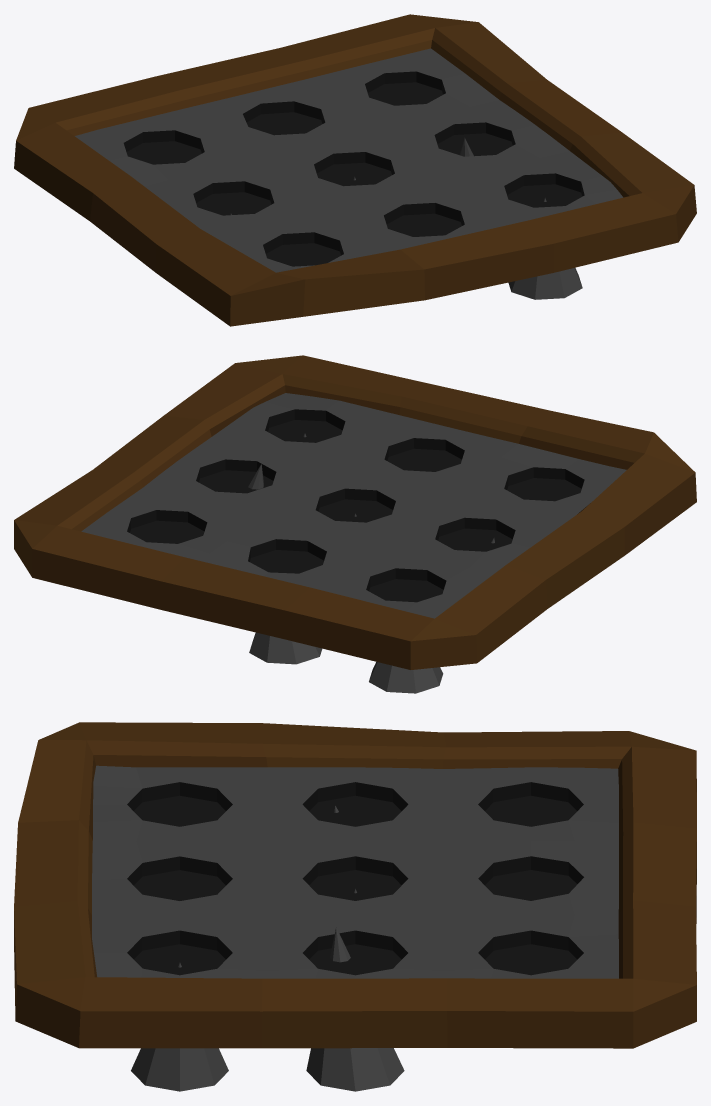
File: Spikes_destruction2.fbx
3 views of the same model, one above another, from view 1: azimuth 30°, elevation 25°; view 2: azimuth 150°, elevation 25°; view 3: azimuth 270°, elevation 25° (orthographic). The views are drawn at different scales.
Parts seen in each view (by area): view 1: Cube.002, Cube.005; view 2: Cube.002, Cube.005; view 3: Cube.002, Cube.005.
Boxes of the visible parts, x1,y1,x2,y2 form: Cube.002: [14, 14, 696, 326]; Cube.005: [230, 138, 582, 299]; Cube.002: [14, 355, 696, 669]; Cube.005: [248, 433, 494, 693]; Cube.002: [14, 722, 696, 1048]; Cube.005: [131, 805, 404, 1091].
Size of the model in its own units: 200 by 48.04 by 200.
